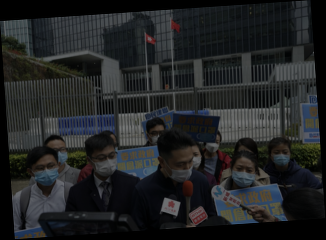with_mask: (167, 155, 194, 185), (32, 161, 60, 187), (93, 150, 118, 176), (231, 162, 256, 188), (48, 145, 67, 169), (271, 147, 291, 166), (148, 128, 165, 145), (205, 138, 220, 154), (191, 150, 202, 170)
